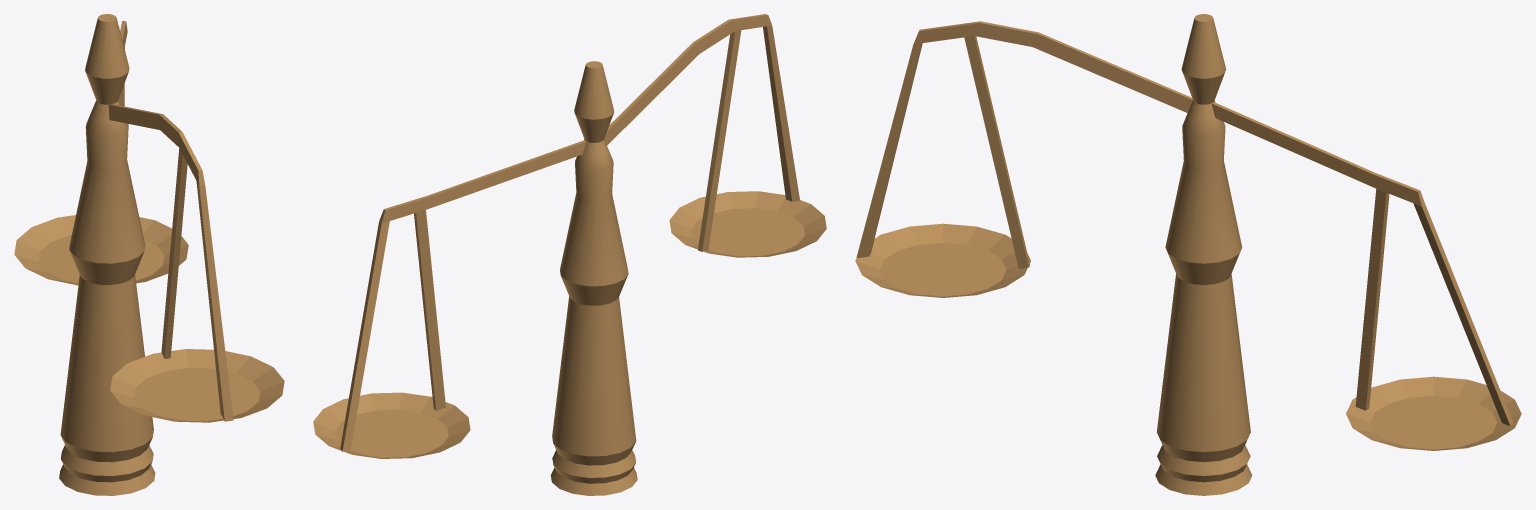
File: scales.fbx
3 views of the same model, side by side, from view 1: azimuth 30°, elevation 25°; view 2: azimuth 150°, elevation 25°; view 3: azimuth 270°, elevation 25° (orthographic). The views are drawn at different scales.
Parts seen in each view (by area): view 1: Circle; view 2: Circle; view 3: Circle.
Boxes of the visible parts, <box> form: Circle: <box>14,14,284,495</box>; Circle: <box>313,14,826,495</box>; Circle: <box>855,14,1521,495</box>.
Bounding box in the file's own units: 717 × 1039 × 1371.
